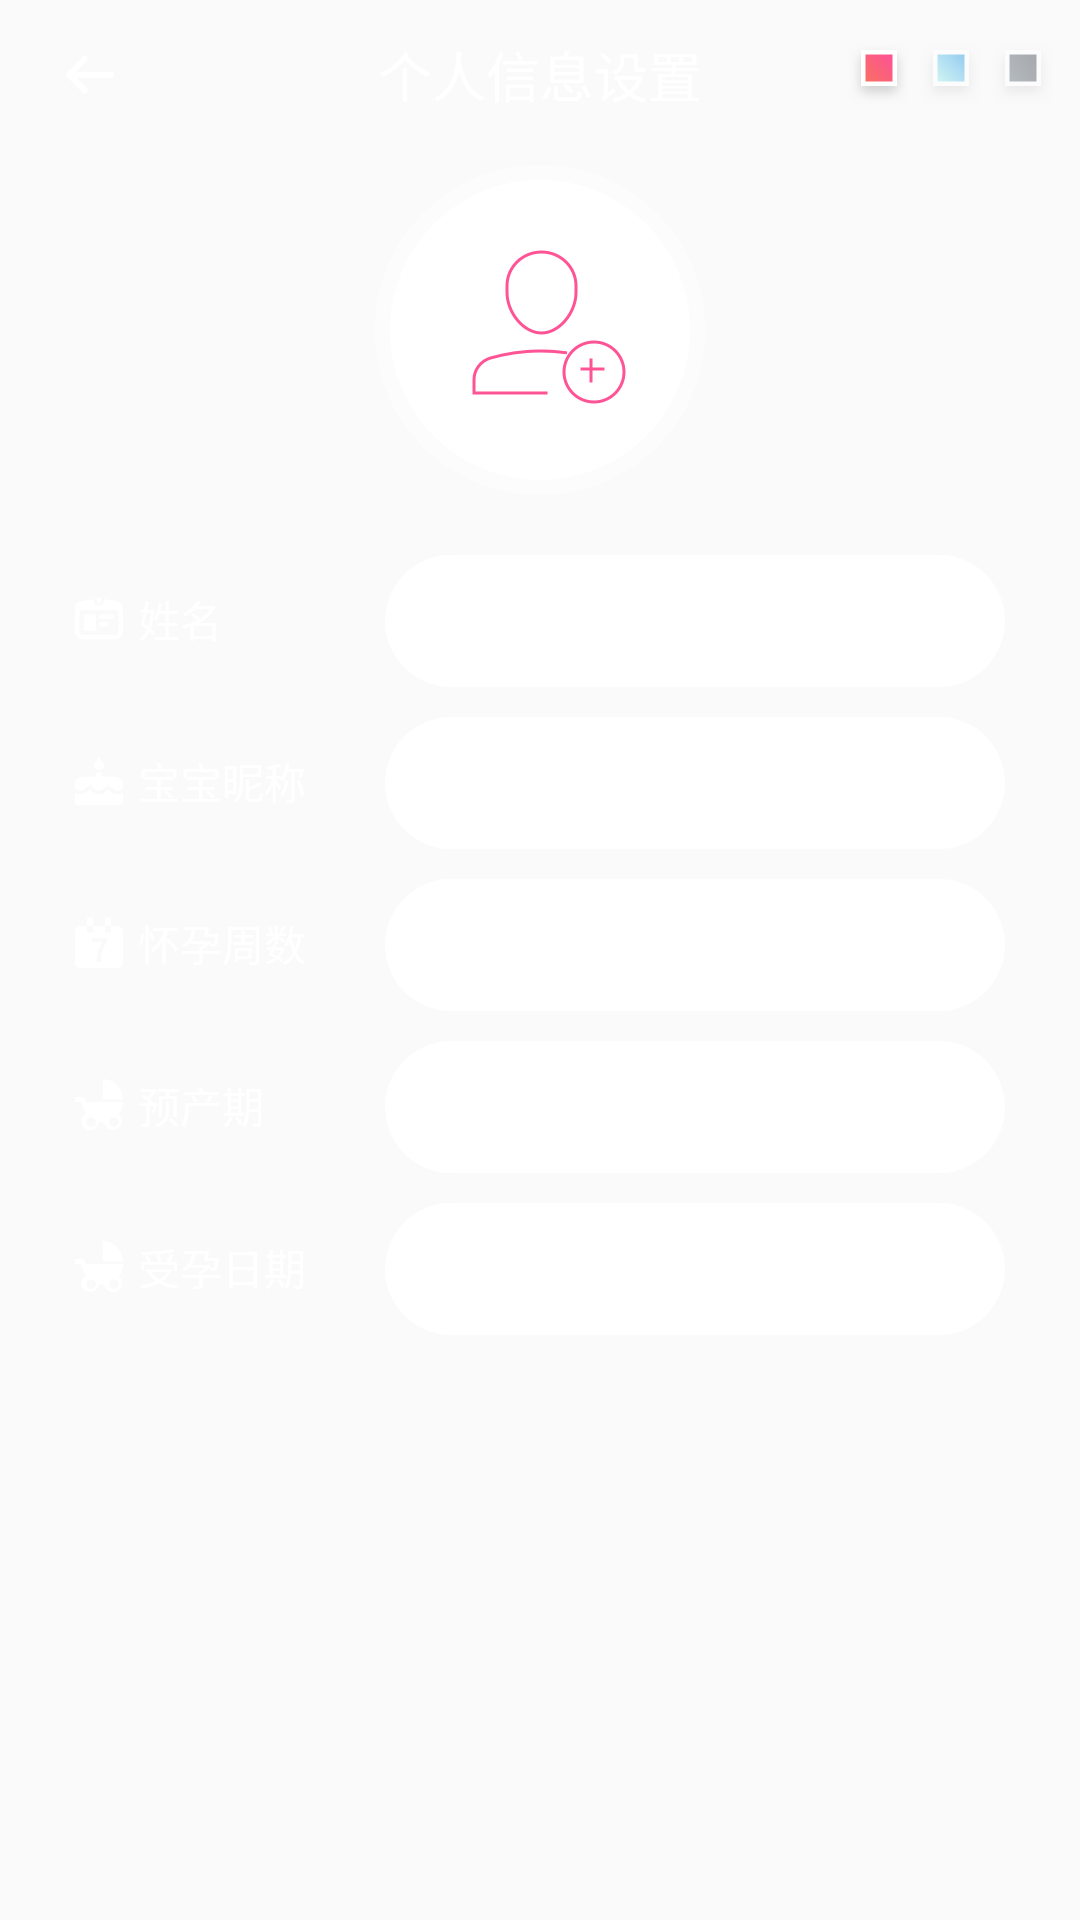

Named icons in this screenshot (1080 x 1920) and their centers, (x,y):
head: (549,327)
